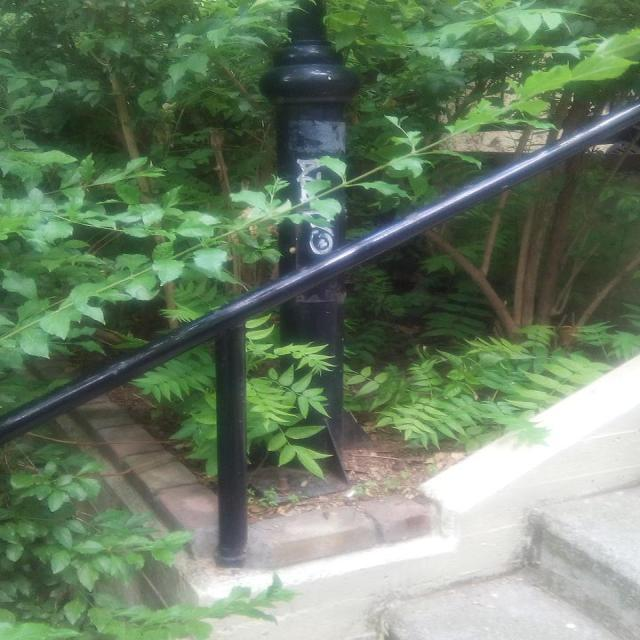nonspitting: (296, 158, 334, 255)
